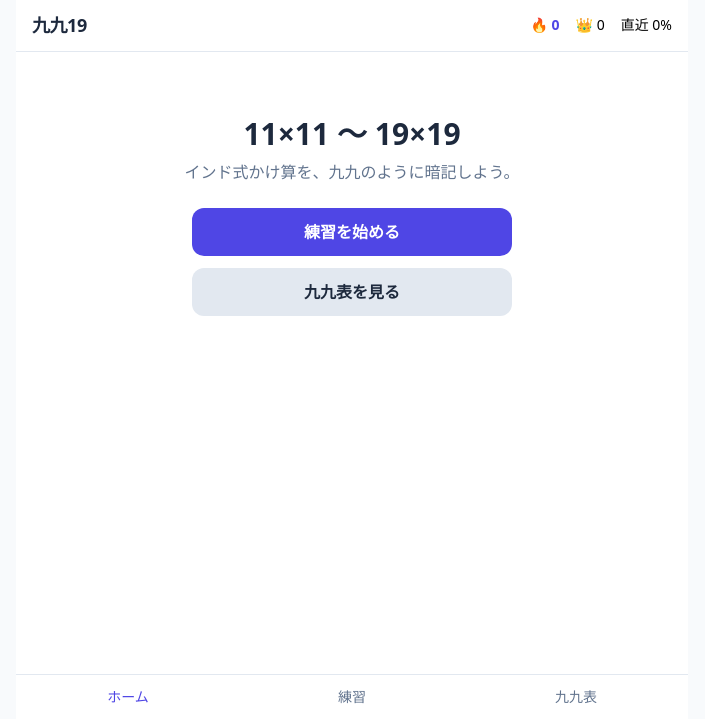
Scenario: App (統合) › TopMenu「練習を始める」でクイズ画面に遷移する
Click the button "練習を始める" at (352, 232), box left=192, top=208, right=512, bottom=256
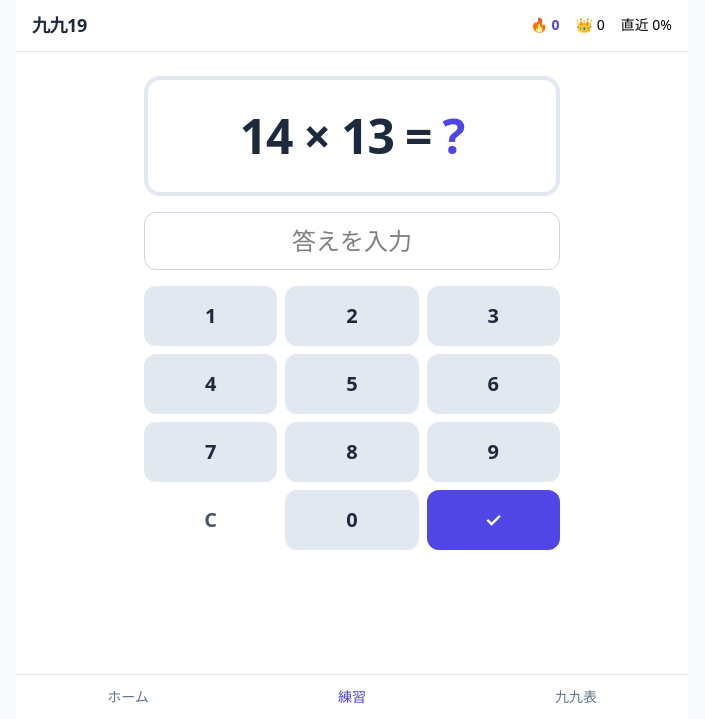
Now the text "14 × 13 = ?" is shown, box left=240, top=103, right=464, bottom=168
Now the field named "答えの入力欄" is shown, box left=144, top=212, right=560, bottom=270
Now the heading "11×11 〜 19×19" is gone
